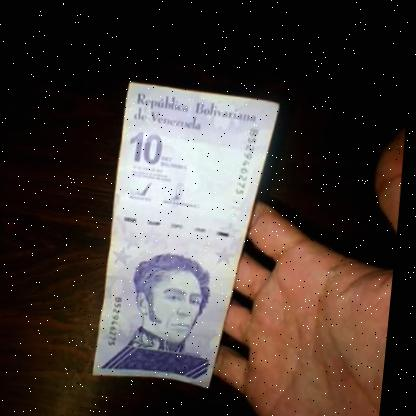ten-front-vef: (94, 76, 287, 389)
